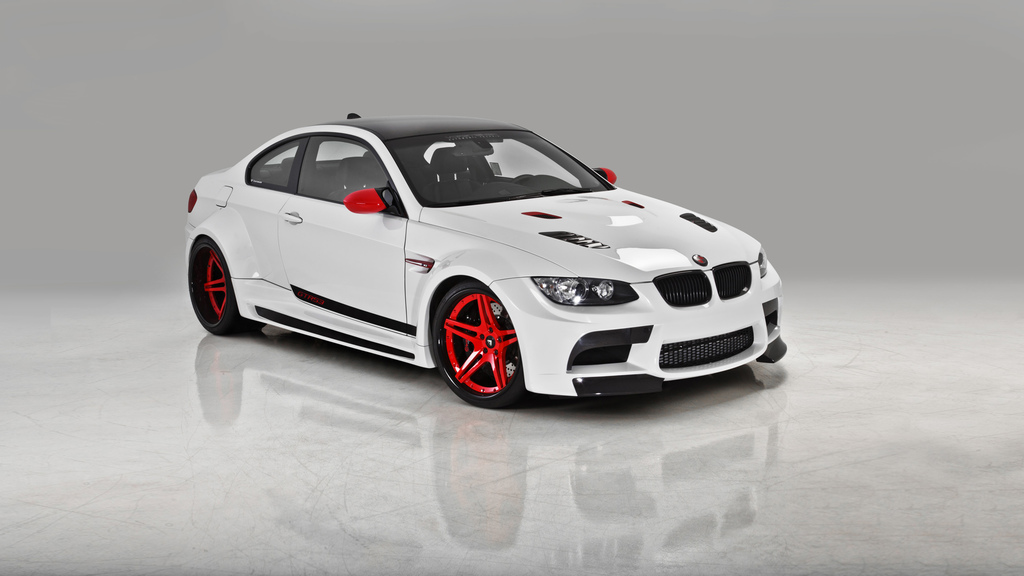Car: (185, 112, 787, 409)
